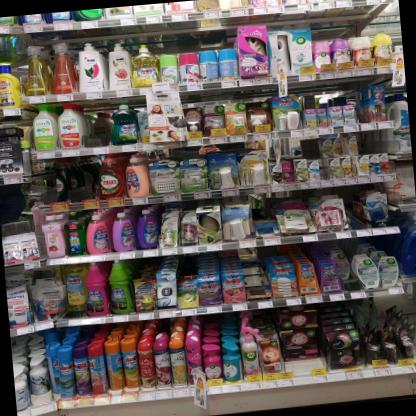empty_space: (357, 132, 390, 157)
